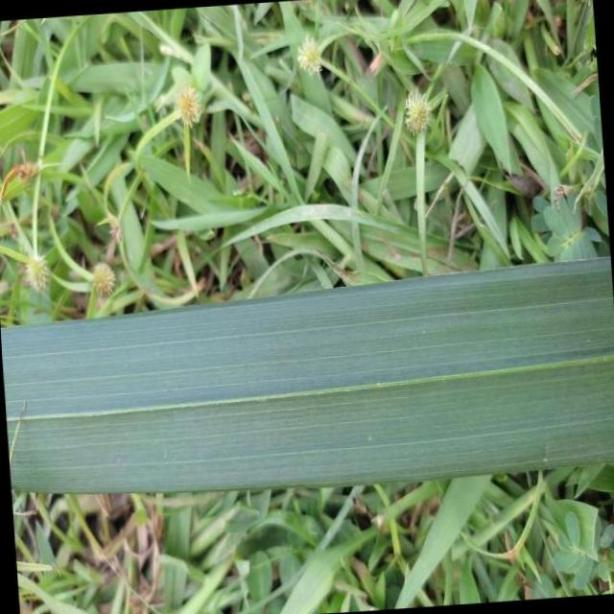Healthy: (0, 257, 614, 499)
